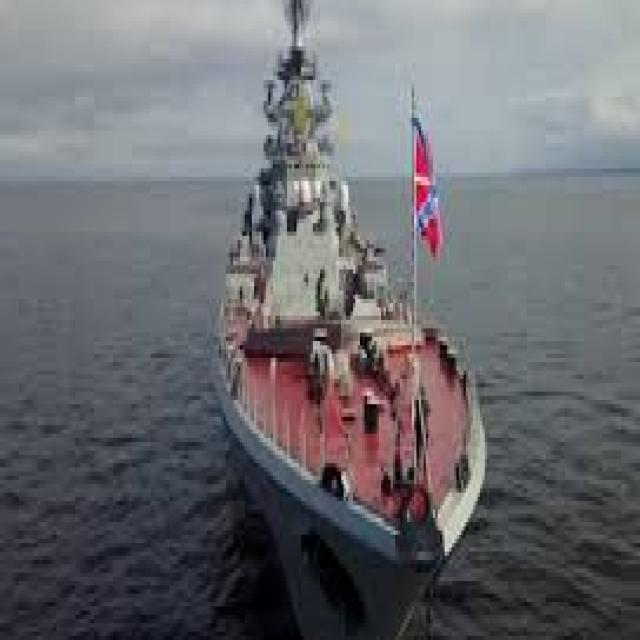navalvessels: (195, 4, 482, 640)
